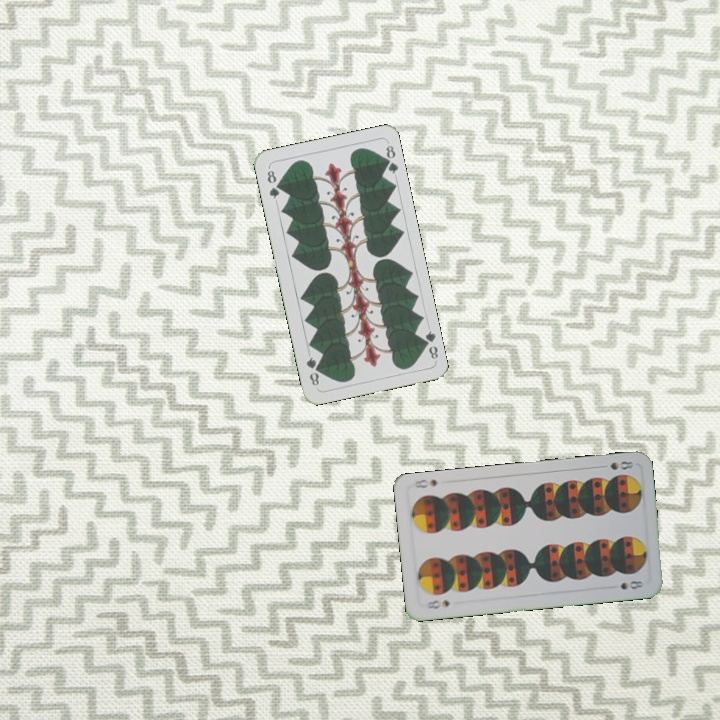G8: (417, 327, 441, 362), (263, 164, 282, 201)
S8: (606, 456, 636, 472), (423, 596, 452, 612)
